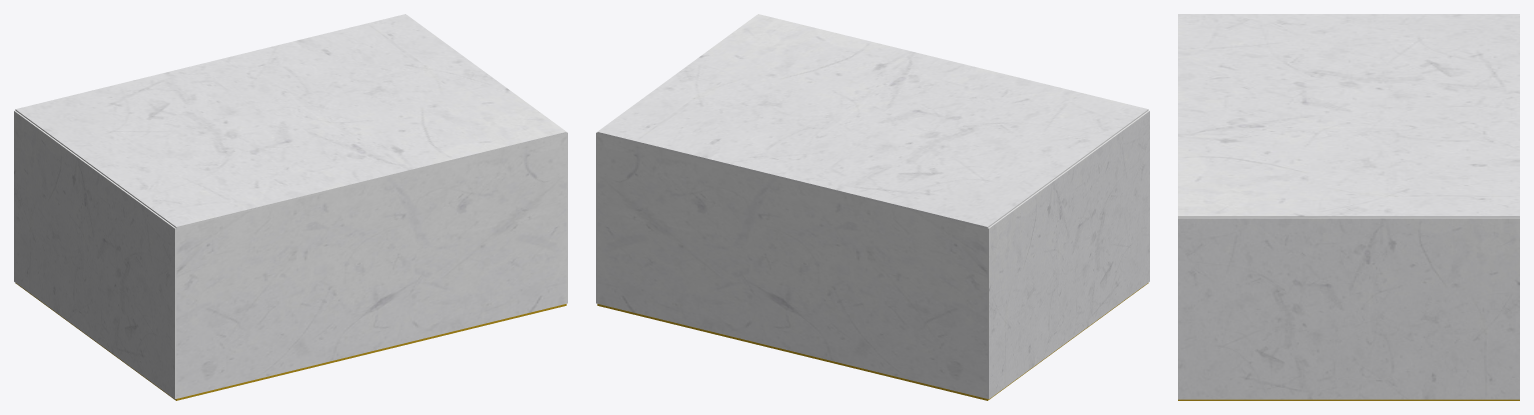
File: 장기맵.fbx
3 renders of one model, left to right at view 1: azimuth 30°, elevation 25°; view 2: azimuth 150°, elevation 25°; view 3: azimuth 270°, elevation 25°, orthographic. The views are drawn at different scales.
Visible parts, largest first — view 1: wall1, ceiling, wall4, floor; view 2: wall3, ceiling, wall4, floor; view 3: ceiling, wall2, floor.
Part boxes in pixels (x1,y1,x2,y2): wall1: [176, 134, 566, 398]; ceiling: [15, 14, 566, 228]; wall4: [14, 110, 176, 399]; floor: [15, 283, 566, 400]; wall3: [597, 134, 987, 398]; ceiling: [597, 14, 1148, 228]; wall4: [987, 110, 1149, 399]; floor: [597, 283, 1148, 400]; ceiling: [1178, 14, 1519, 217]; wall2: [1178, 217, 1519, 399]; floor: [1178, 399, 1519, 400].
Bounding box in the file's own units: 1410 × 596 × 1000.
